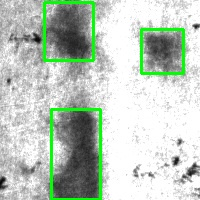patches: (51, 109, 100, 199), (44, 2, 93, 60), (141, 29, 183, 73)
